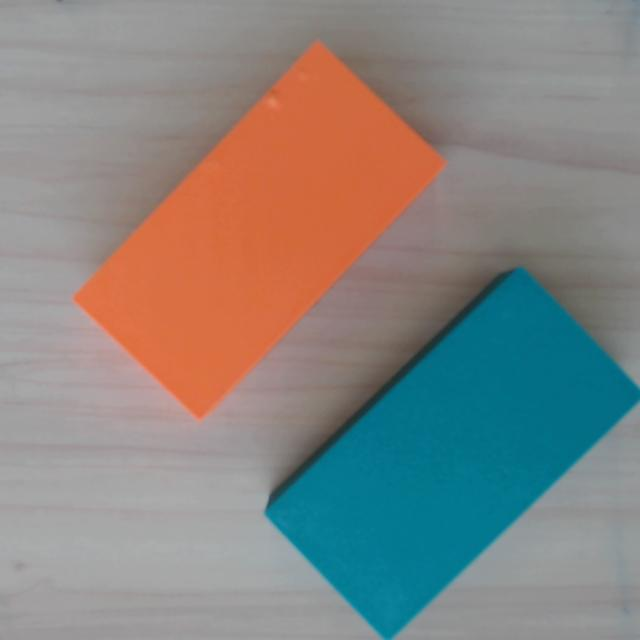Balok-Jingga-1005025: (70, 39, 449, 423)
